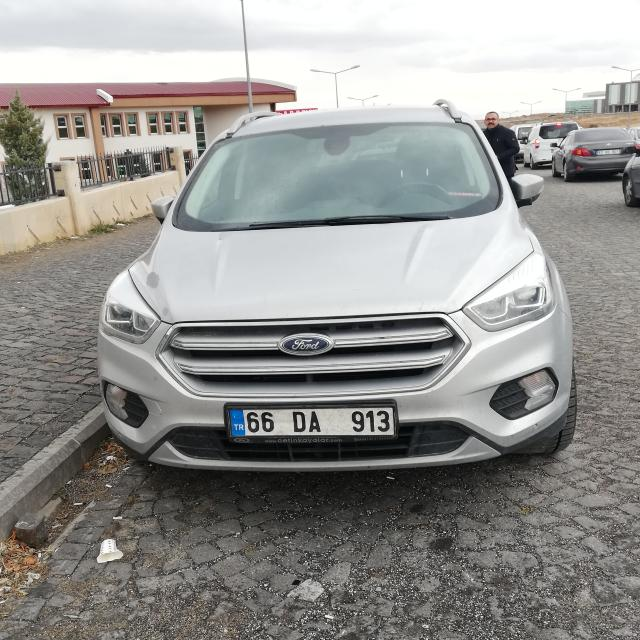license_plate: (226, 404, 396, 437)
